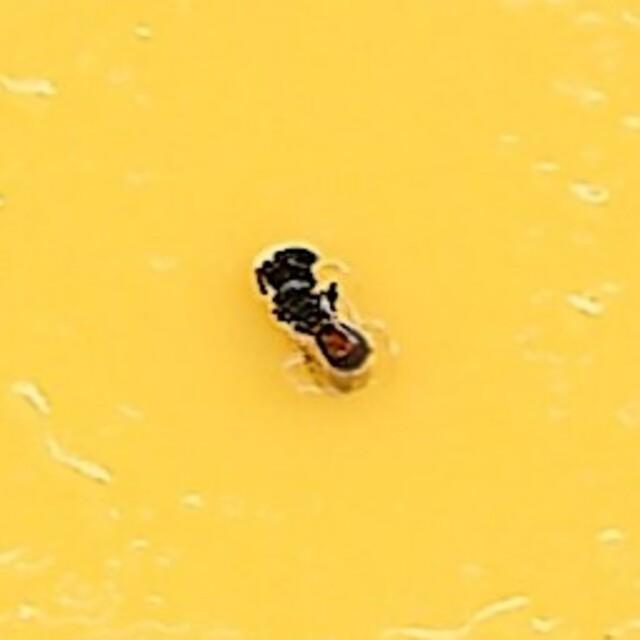Hymenoptera: (250, 242, 390, 398)
